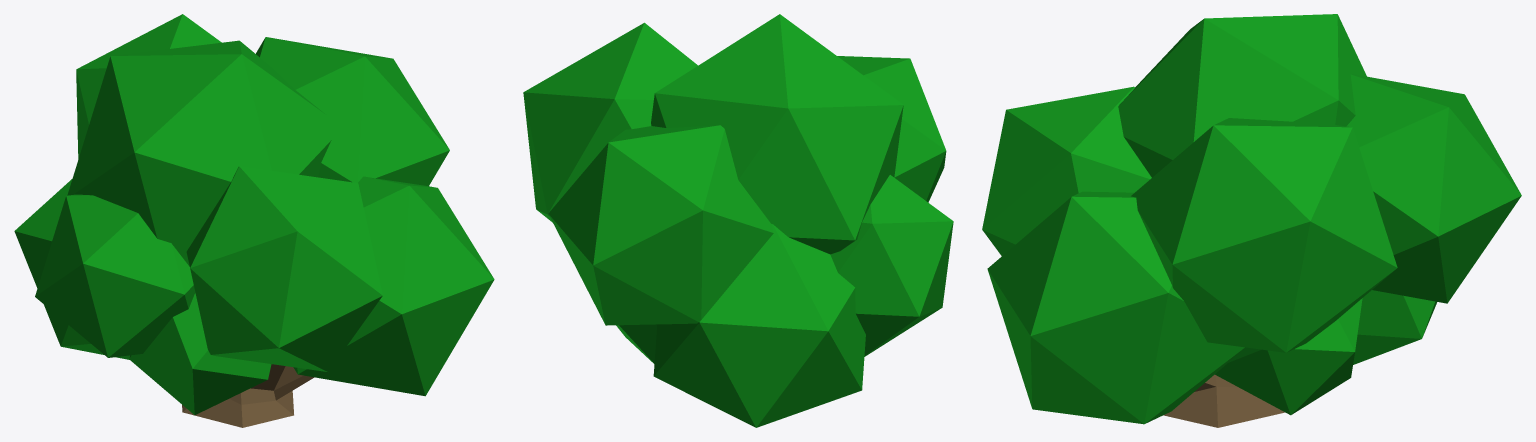
The model's file is bushLODSv1.fbx.
3 renders of one model, left to right at view 1: azimuth 30°, elevation 25°; view 2: azimuth 150°, elevation 25°; view 3: azimuth 270°, elevation 25°, orthographic. The views are drawn at different scales.
Visible parts, largest first — view 1: Bush_LOD0; view 2: Bush_LOD0; view 3: Bush_LOD0.
Part boxes in pixels (left/top/right/bottom): Bush_LOD0: left=14, top=14, right=494, bottom=427; Bush_LOD0: left=523, top=14, right=953, bottom=427; Bush_LOD0: left=982, top=14, right=1521, bottom=427.
Size of what is drawn, in the model's own units: 1.64 by 1.48 by 1.91.
